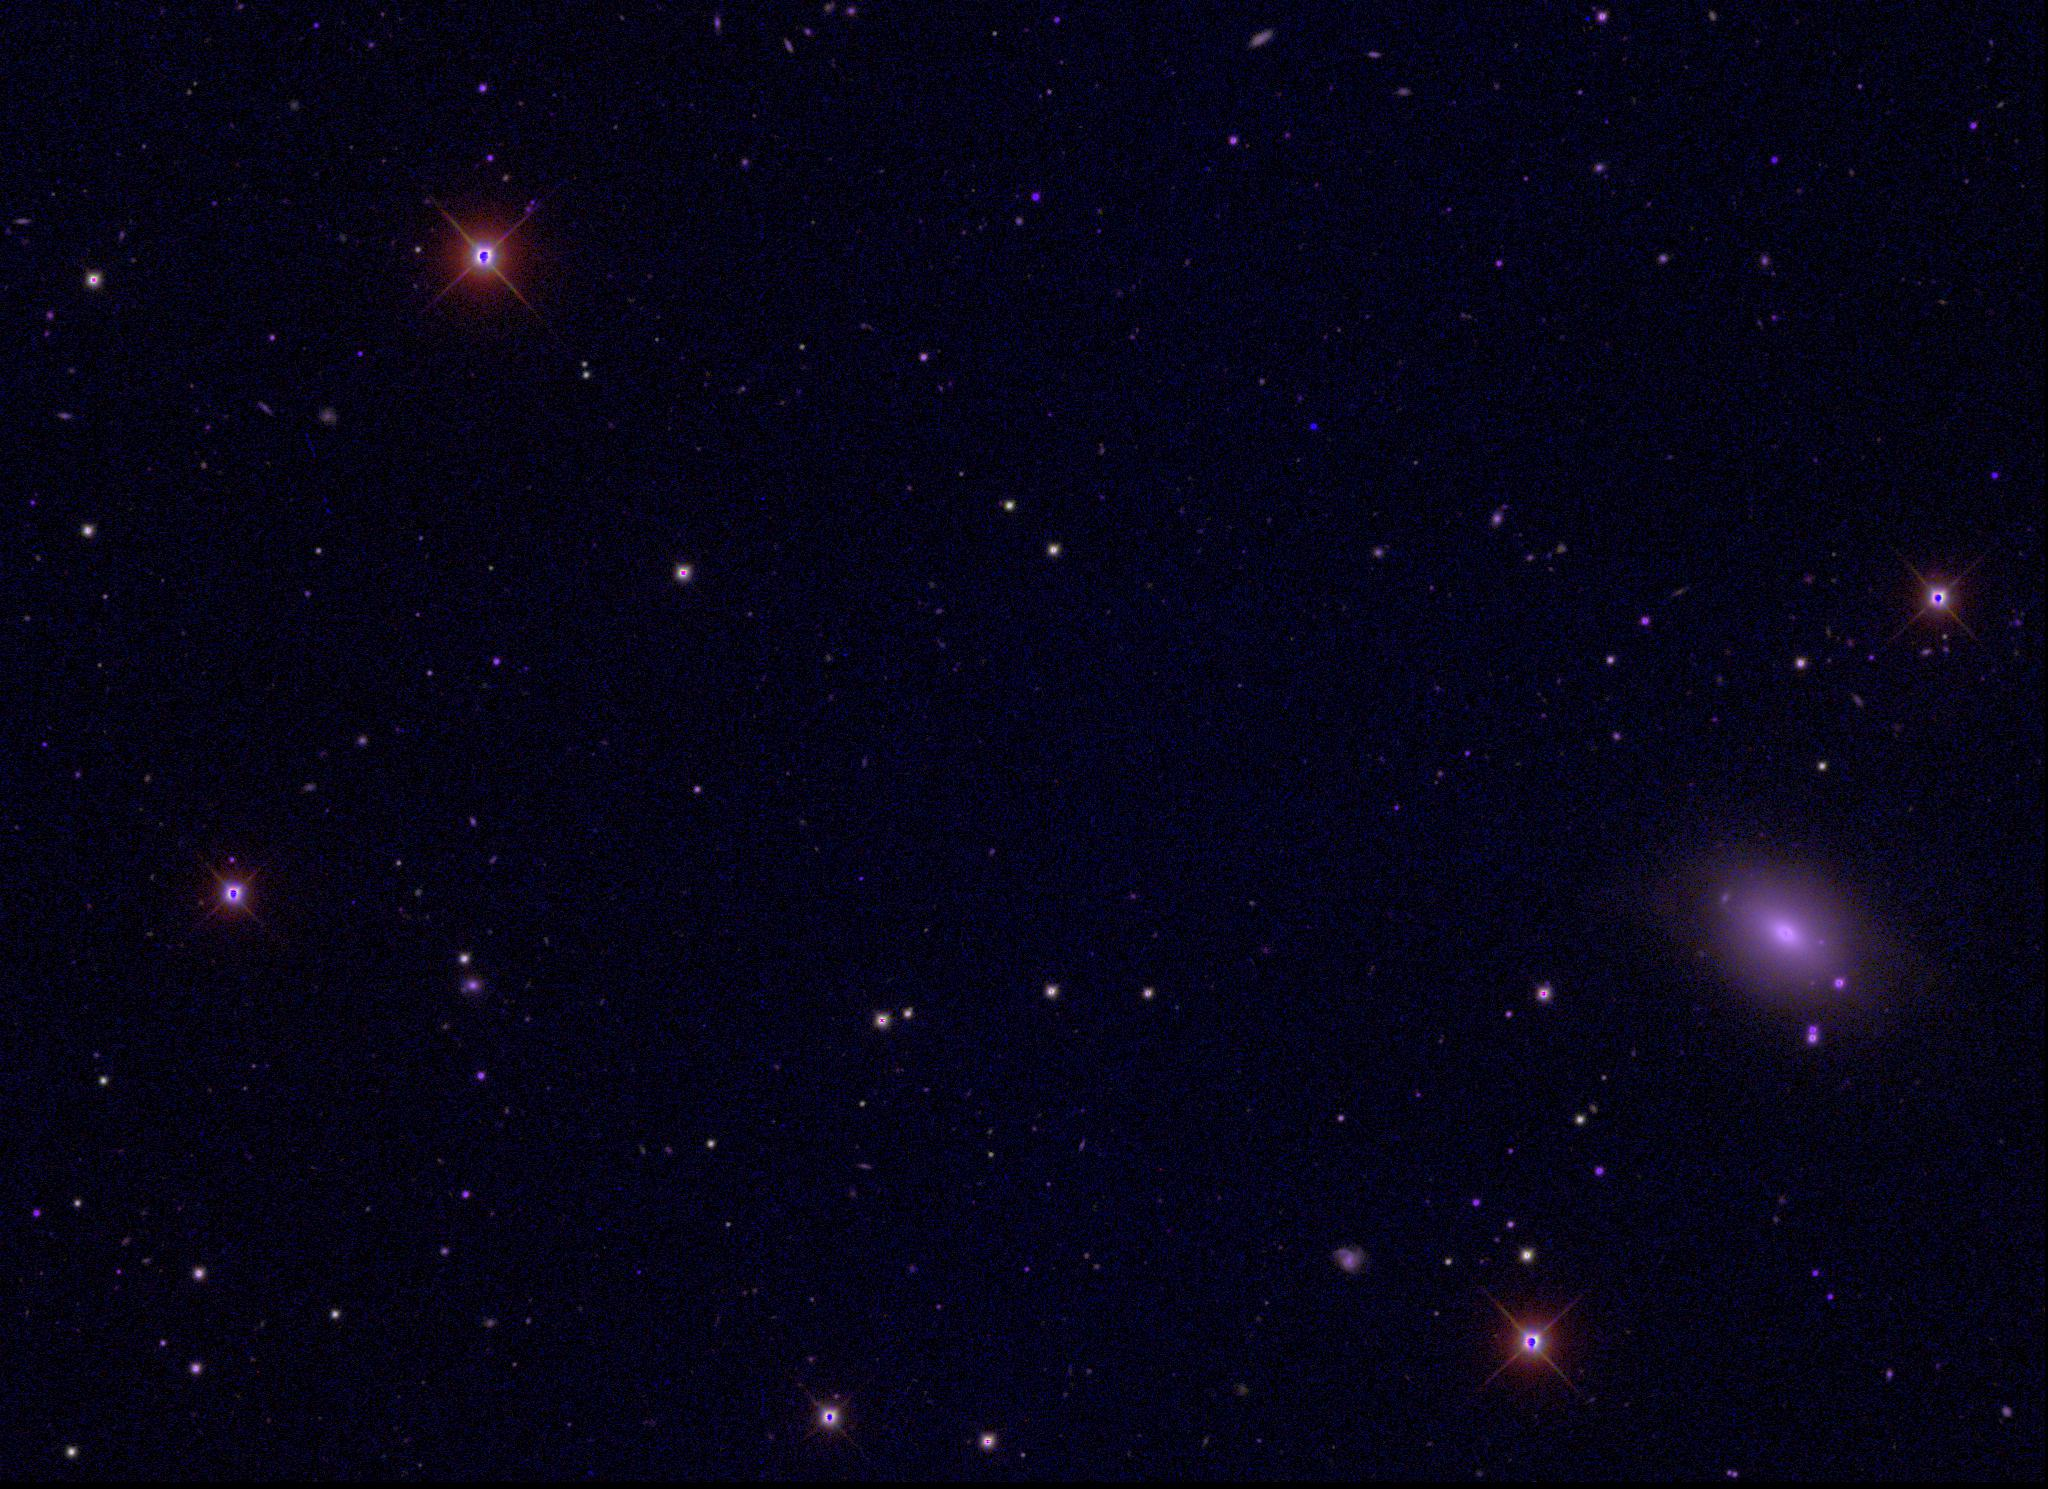L: (1307, 418, 1321, 433)
